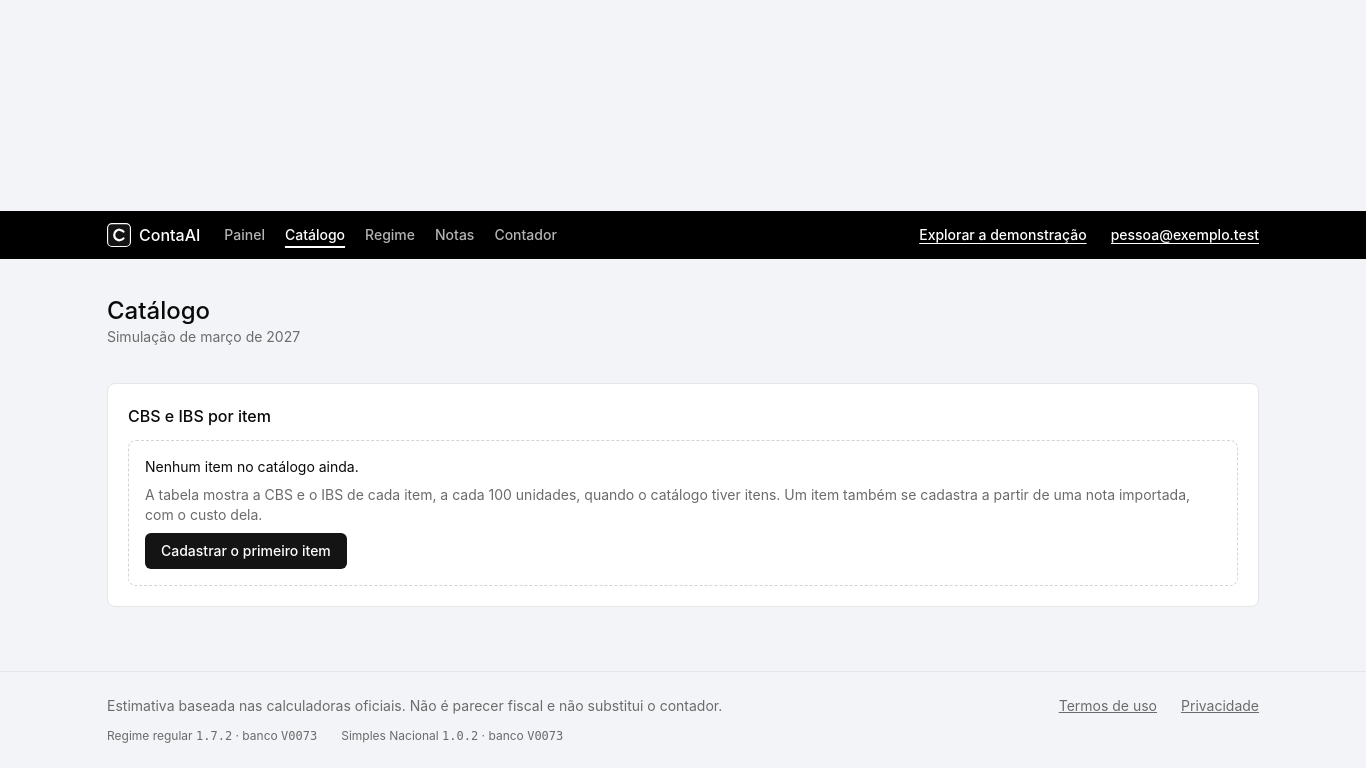
it: cadastrar o item pelo Catálogo › a NCM com Imposto Seletivo aparece fora da escolha, com o motivo
The width and height of the screenshot is (1366, 768).
(page scrolled)
Click the button "Cadastrar o primeiro item". click: (246, 551)
box: [145,533,347,569]
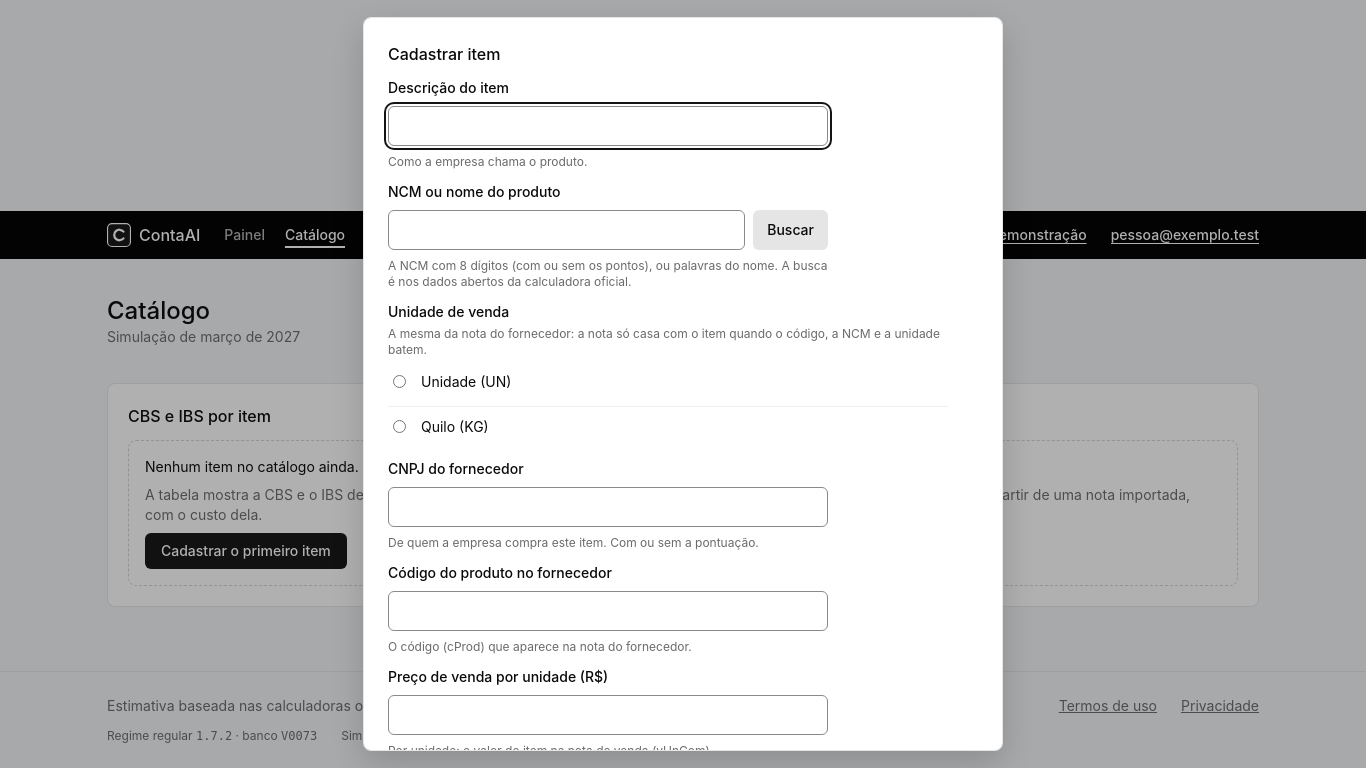
Type "22030000" into the field labelled "NCM ou nome do produto". click: (567, 230)
box: [388,210,745,250]
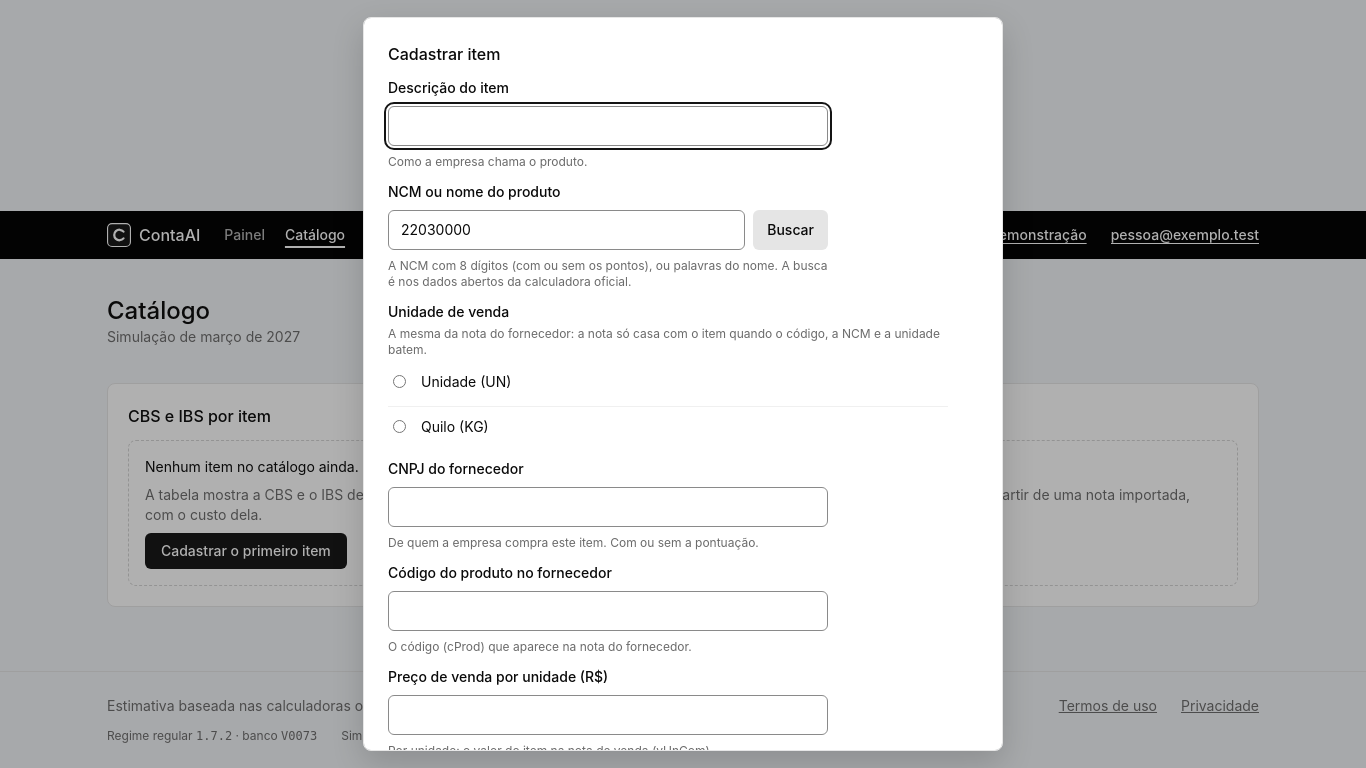
Click the button "Buscar". click: (791, 230)
box: [753,210,828,250]
(page scrolled)
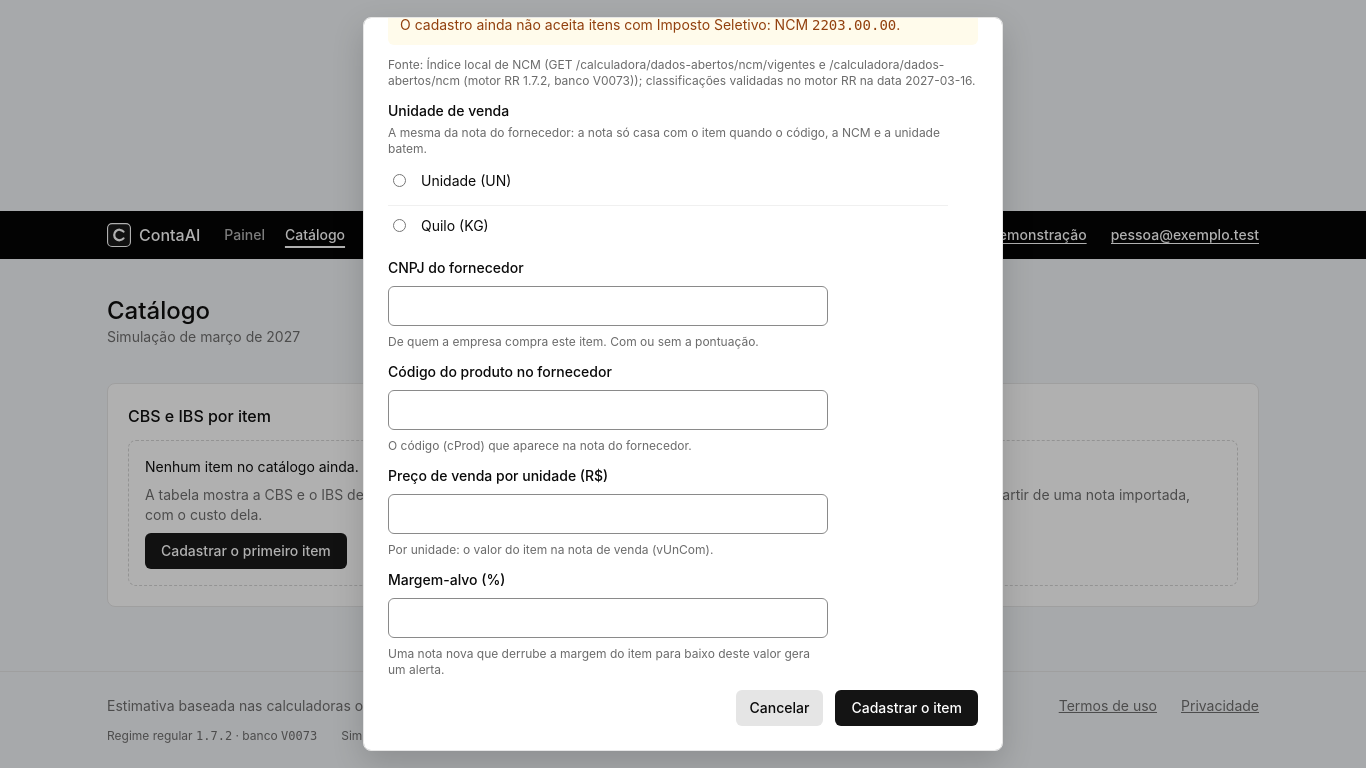
expect the text "O cadastro ainda não aceita itens com Imposto Seletivo:" is shown: met, box [400,17,771,33]
Click the button "Cadastrar o item". click: (907, 708)
box: [835,690,978,726]
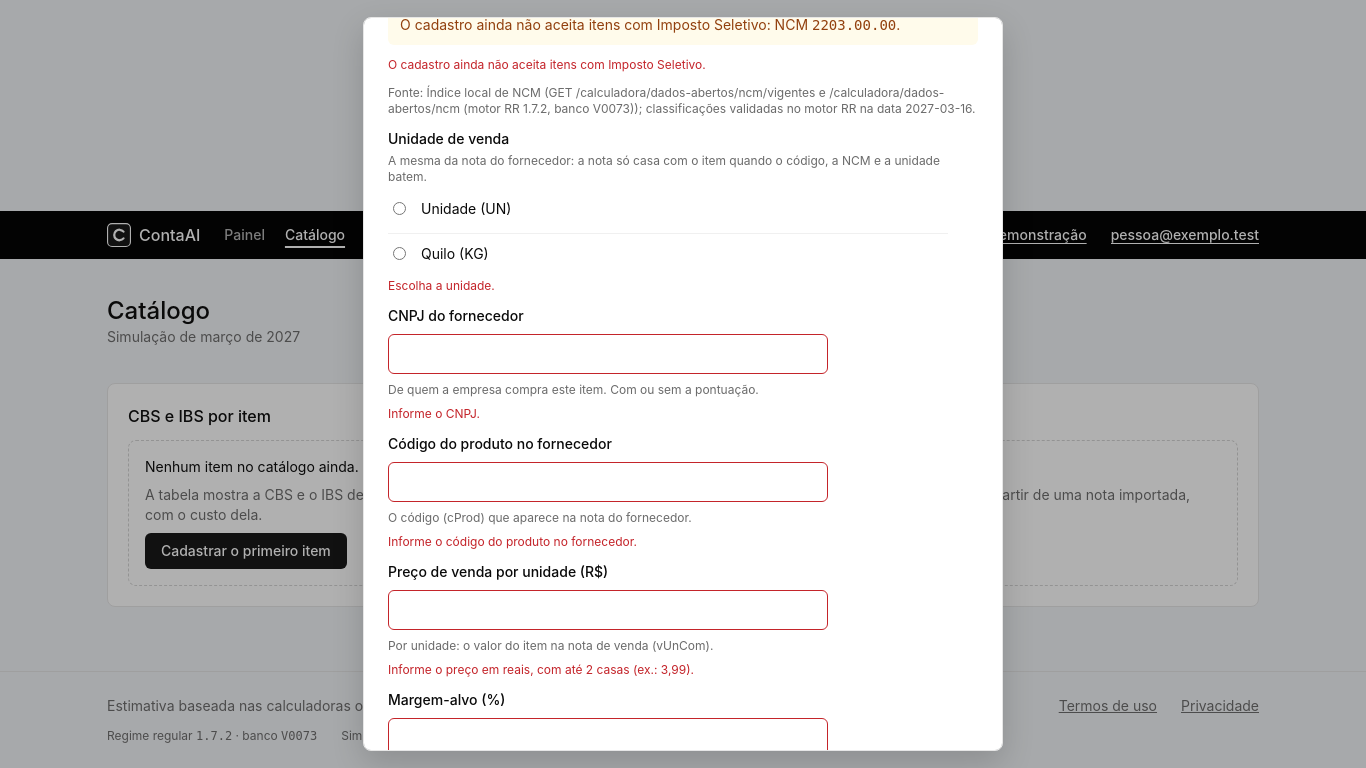
expect the text "O cadastro ainda não aceita itens com Imposto Seletivo." is shown: met, box [388,57,706,72]
